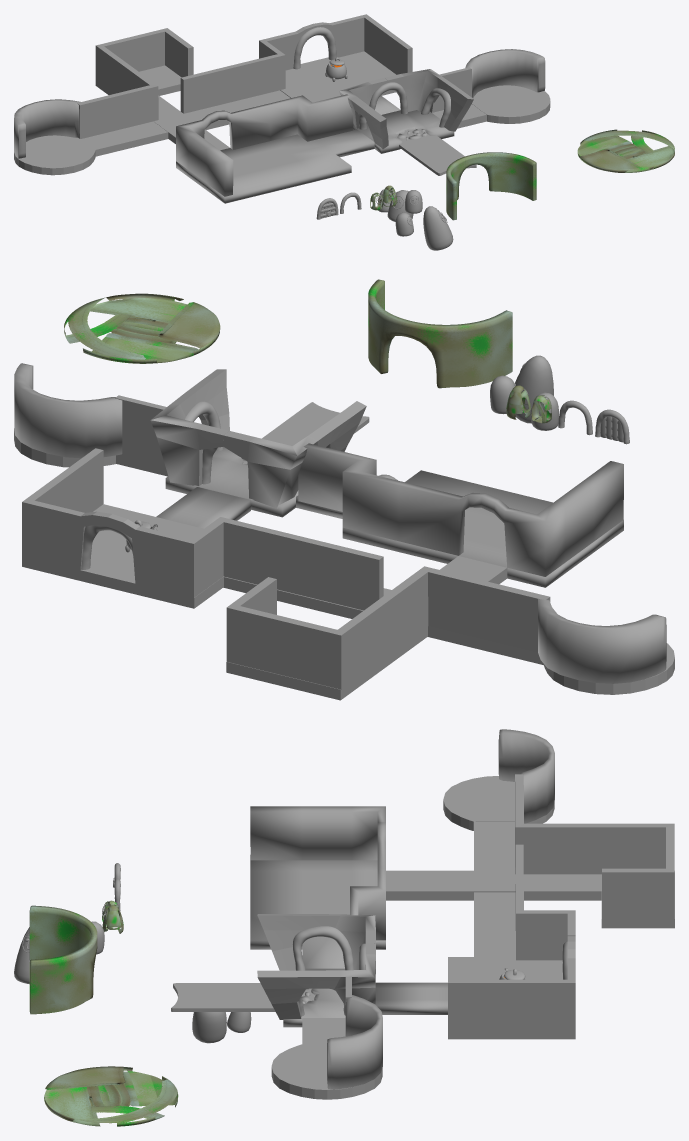
The model's file is Pasillo1.fbx.
3 views of the same model, one above another, from view 1: azimuth 30°, elevation 25°; view 2: azimuth 150°, elevation 25°; view 3: azimuth 270°, elevation 25° (orthographic). The views are drawn at different scales.
Visible parts, largest first — view 1: Plane.008, Plane.009, Plane.015, Plane.017, Plane.036, Plane.005, Plane.028, Plane.029, Plane.013, Plane.003, Plane.007, Plane.006 (+15 smaller); view 2: Plane.009, Plane.008, Plane.017, Plane.036, Plane.005, Plane.028, Plane.007, Plane.029, Plane.015, Plane.003, Plane.013, Plane.016 (+11 smaller); view 3: Plane.009, Plane.017, Plane.008, Plane.015, Plane.036, Plane.016, Plane.029, Plane.028, Plane.003, Plane.007, Plane.013, Plane.001 (+11 smaller).
Part boxes in pixels (x1,y1,x2,y2): Plane.008: [176, 94, 353, 196]; Plane.009: [77, 28, 193, 138]; Plane.015: [176, 129, 374, 203]; Plane.017: [259, 14, 412, 89]; Plane.036: [339, 69, 473, 149]; Plane.005: [180, 54, 280, 113]; Plane.028: [577, 129, 674, 172]; Plane.029: [446, 152, 536, 220]; Plane.013: [280, 51, 396, 102]; Plane.003: [465, 49, 545, 98]; Plane.007: [14, 99, 80, 158]; Plane.006: [14, 135, 95, 175]; Plane.009: [226, 566, 550, 689]; Plane.008: [298, 443, 623, 576]; Plane.017: [22, 448, 227, 598]; Plane.036: [150, 369, 366, 508]; Plane.005: [223, 519, 383, 610]; Plane.028: [64, 293, 220, 363]; Plane.007: [538, 599, 666, 683]; Plane.029: [368, 279, 512, 388]; Plane.015: [296, 470, 623, 587]; Plane.003: [14, 363, 122, 458]; Plane.013: [22, 504, 223, 608]; Plane.016: [226, 556, 507, 700]; Plane.009: [515, 774, 674, 919]; Plane.017: [448, 910, 575, 1029]; Plane.008: [250, 806, 385, 940]; Plane.015: [250, 855, 385, 968]; Plane.036: [257, 914, 375, 1019]; Plane.016: [386, 870, 674, 928]; Plane.029: [29, 905, 97, 1014]; Plane.028: [44, 1066, 178, 1126]; Plane.003: [327, 995, 382, 1089]; Plane.007: [498, 729, 554, 823]; Plane.013: [448, 957, 575, 1039]; Plane.001: [271, 1044, 382, 1099].
Bounding box in the file's own units: 6326 × 1117 × 5123.
